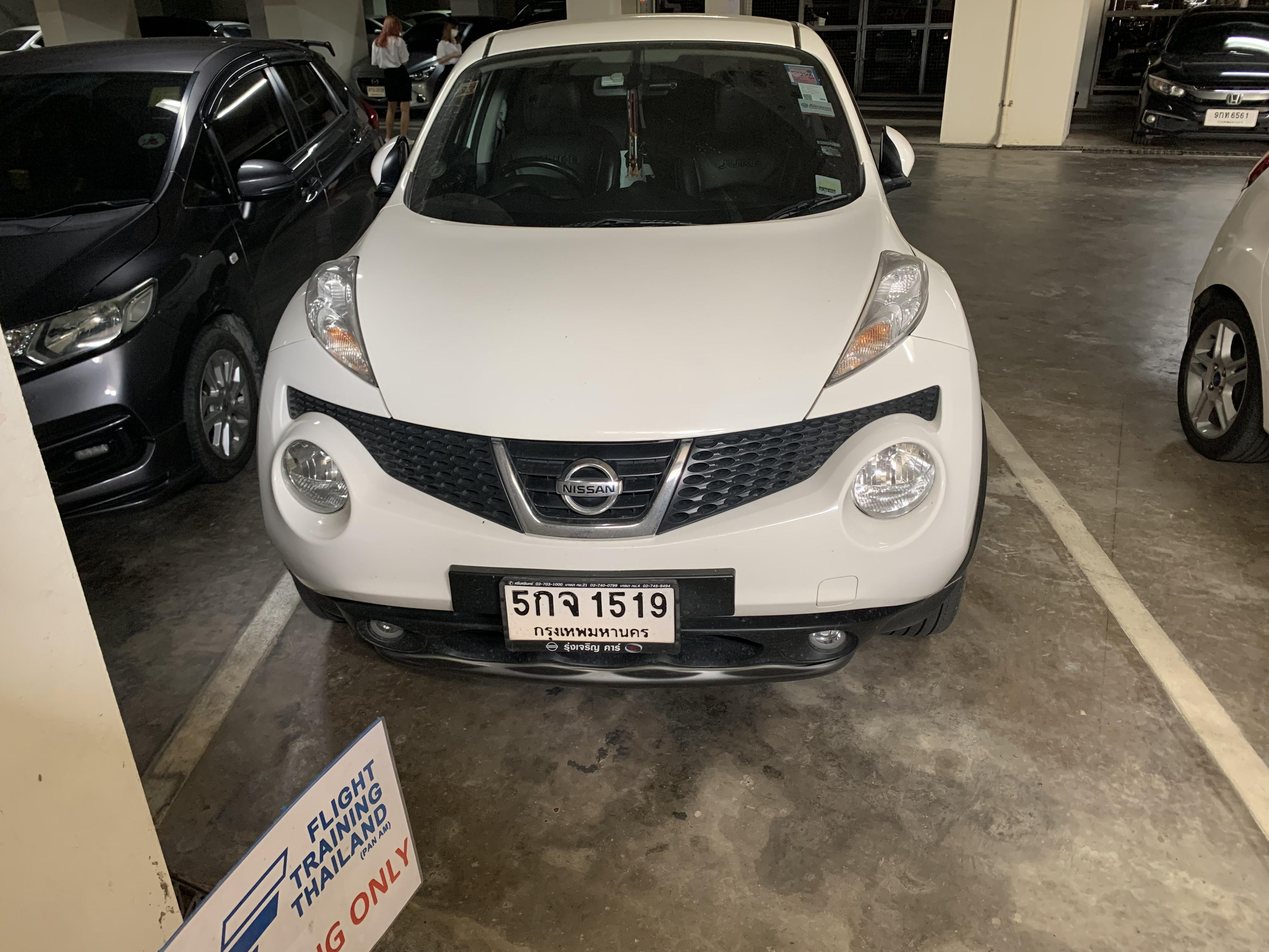license-plate: (493, 565, 690, 660)
